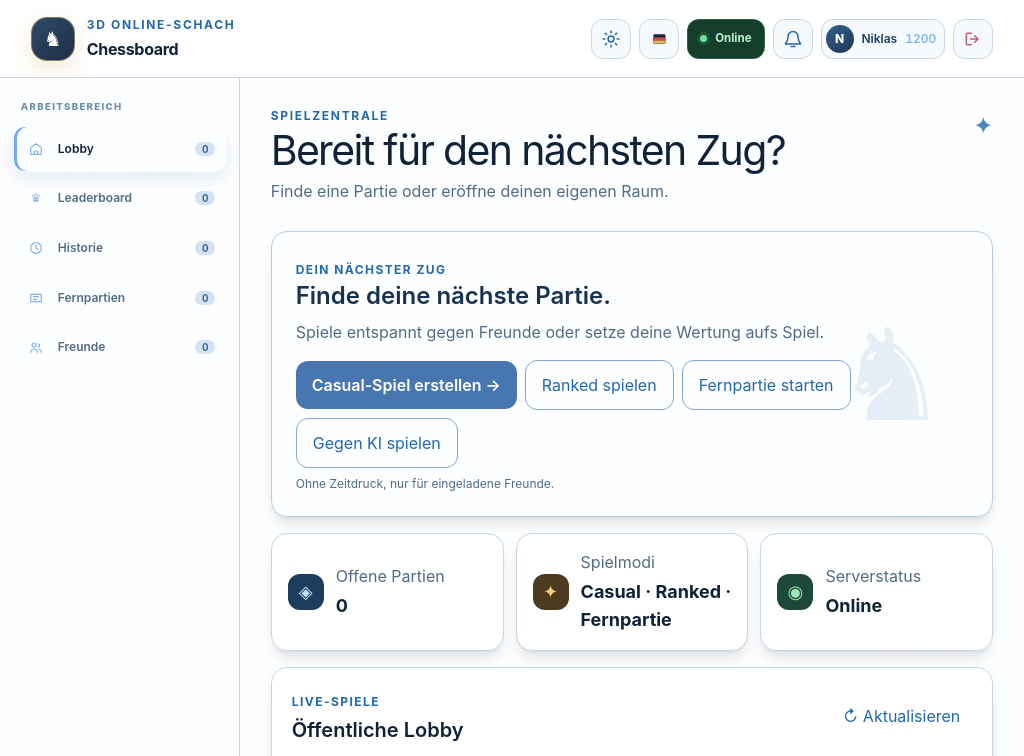
Test: App › opens a public profile from the friends list without showing private contact data
Expected: the heading "Bereit für den nächsten Zug?" is shown, [271,130,785,171]
Step 1. Click the button "Freunde 0" → (120, 347), box [13,324,226,370]
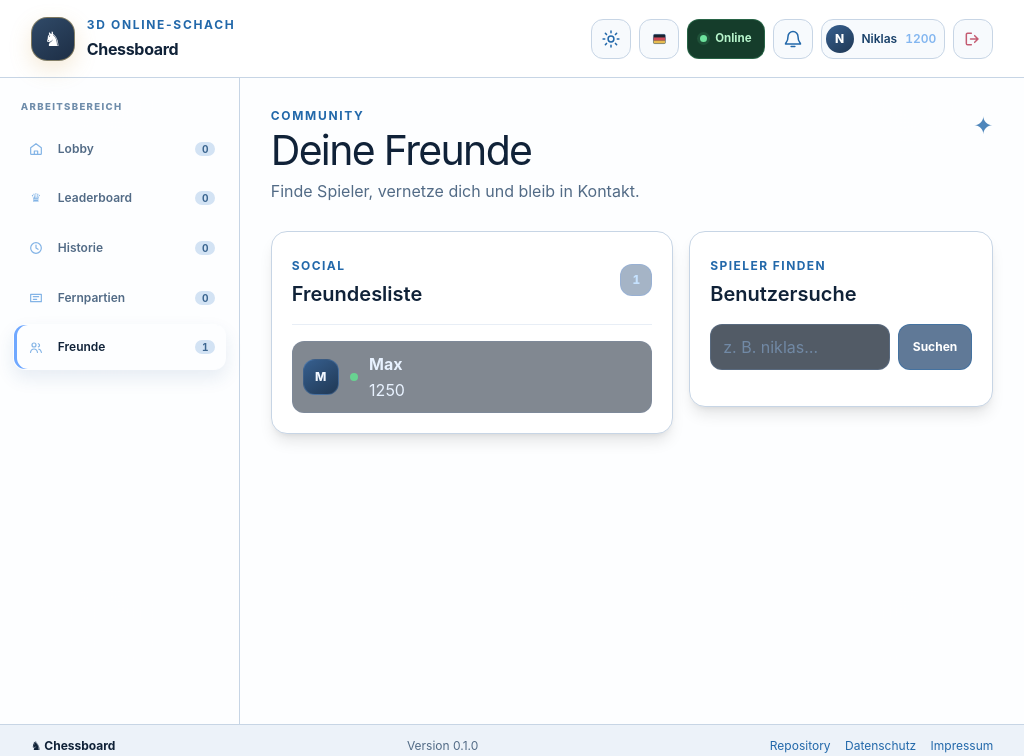
Step 2. Click the button "Max 1250" → (386, 364), box [369,352,631,402]
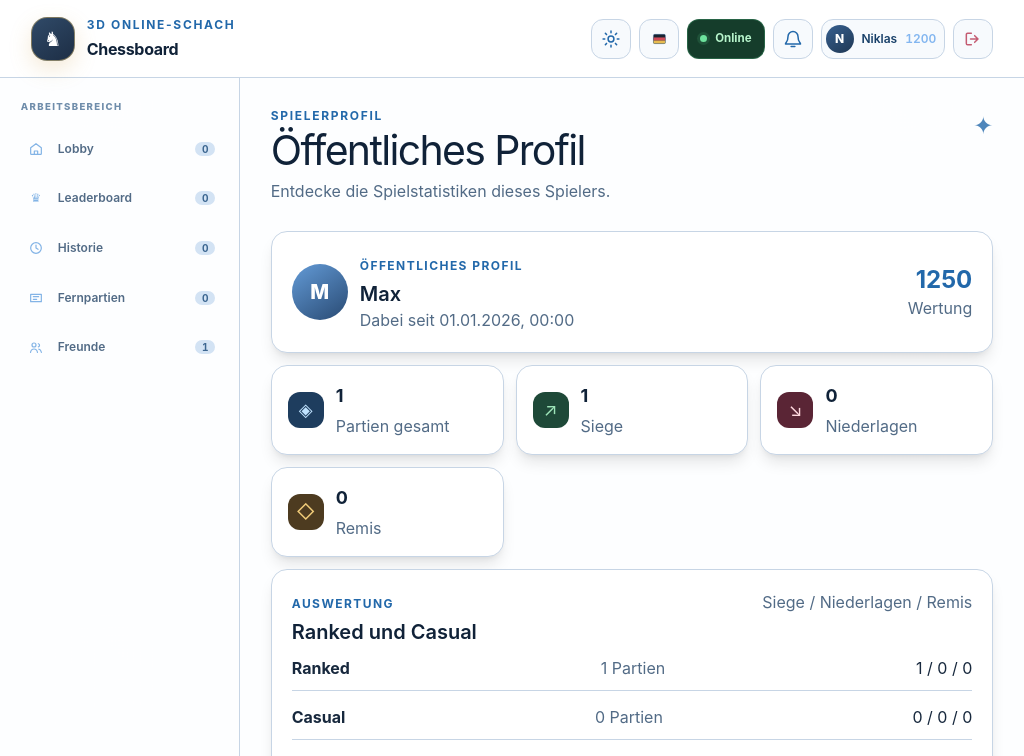
Result: the heading "Max" is shown at [360,282,401,306]
Result: the heading "Öffentliches Profil" is shown at [271,130,610,171]
